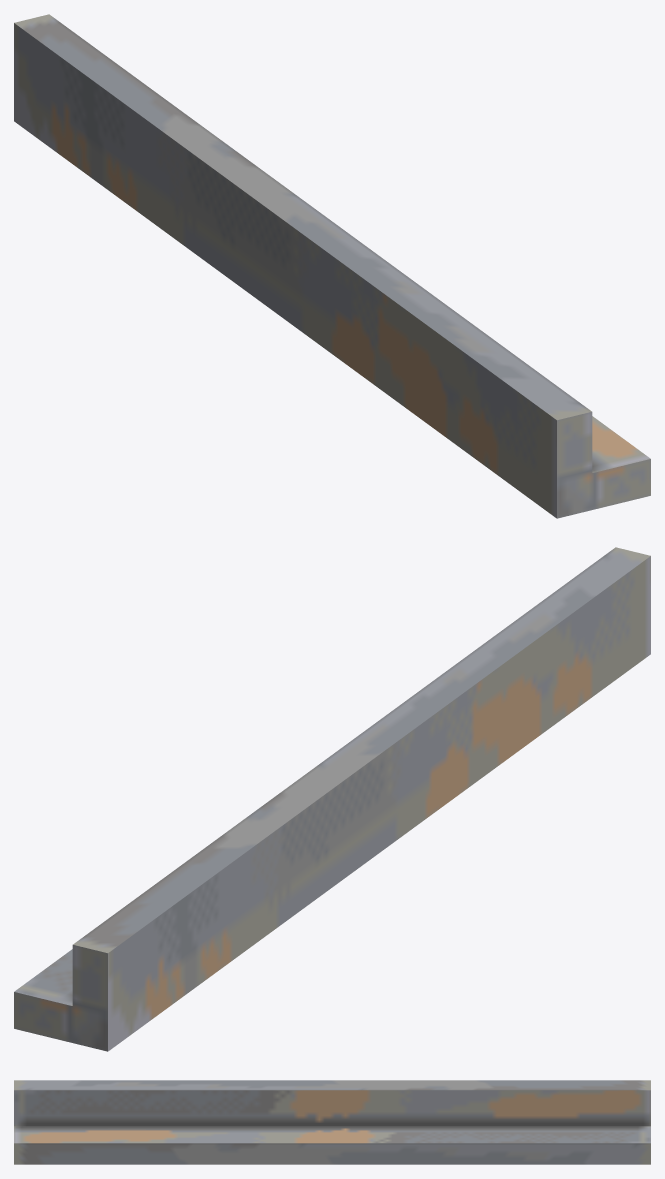
The model's file is frame.fbx.
3 views of the same model, one above another, from view 1: azimuth 30°, elevation 25°; view 2: azimuth 150°, elevation 25°; view 3: azimuth 270°, elevation 25° (orthographic). The views are drawn at different scales.
Parts seen in each view (by area): view 1: galvanised_steel_frame; view 2: galvanised_steel_frame; view 3: galvanised_steel_frame.
Part boxes in pixels (bbox=[...]): galvanised_steel_frame: bbox=[14, 14, 650, 518]; galvanised_steel_frame: bbox=[14, 547, 650, 1051]; galvanised_steel_frame: bbox=[14, 1080, 650, 1164].
Bounding box in the file's own units: 20 × 20 × 200.
